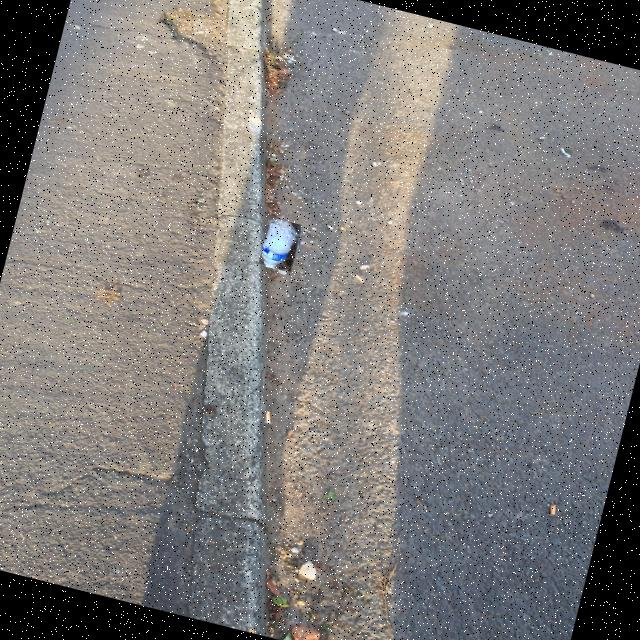Cigarette: (560, 148, 571, 157), (354, 275, 364, 283), (551, 504, 556, 515), (266, 412, 270, 424)
Clear plastic bottle: (262, 220, 299, 268)
